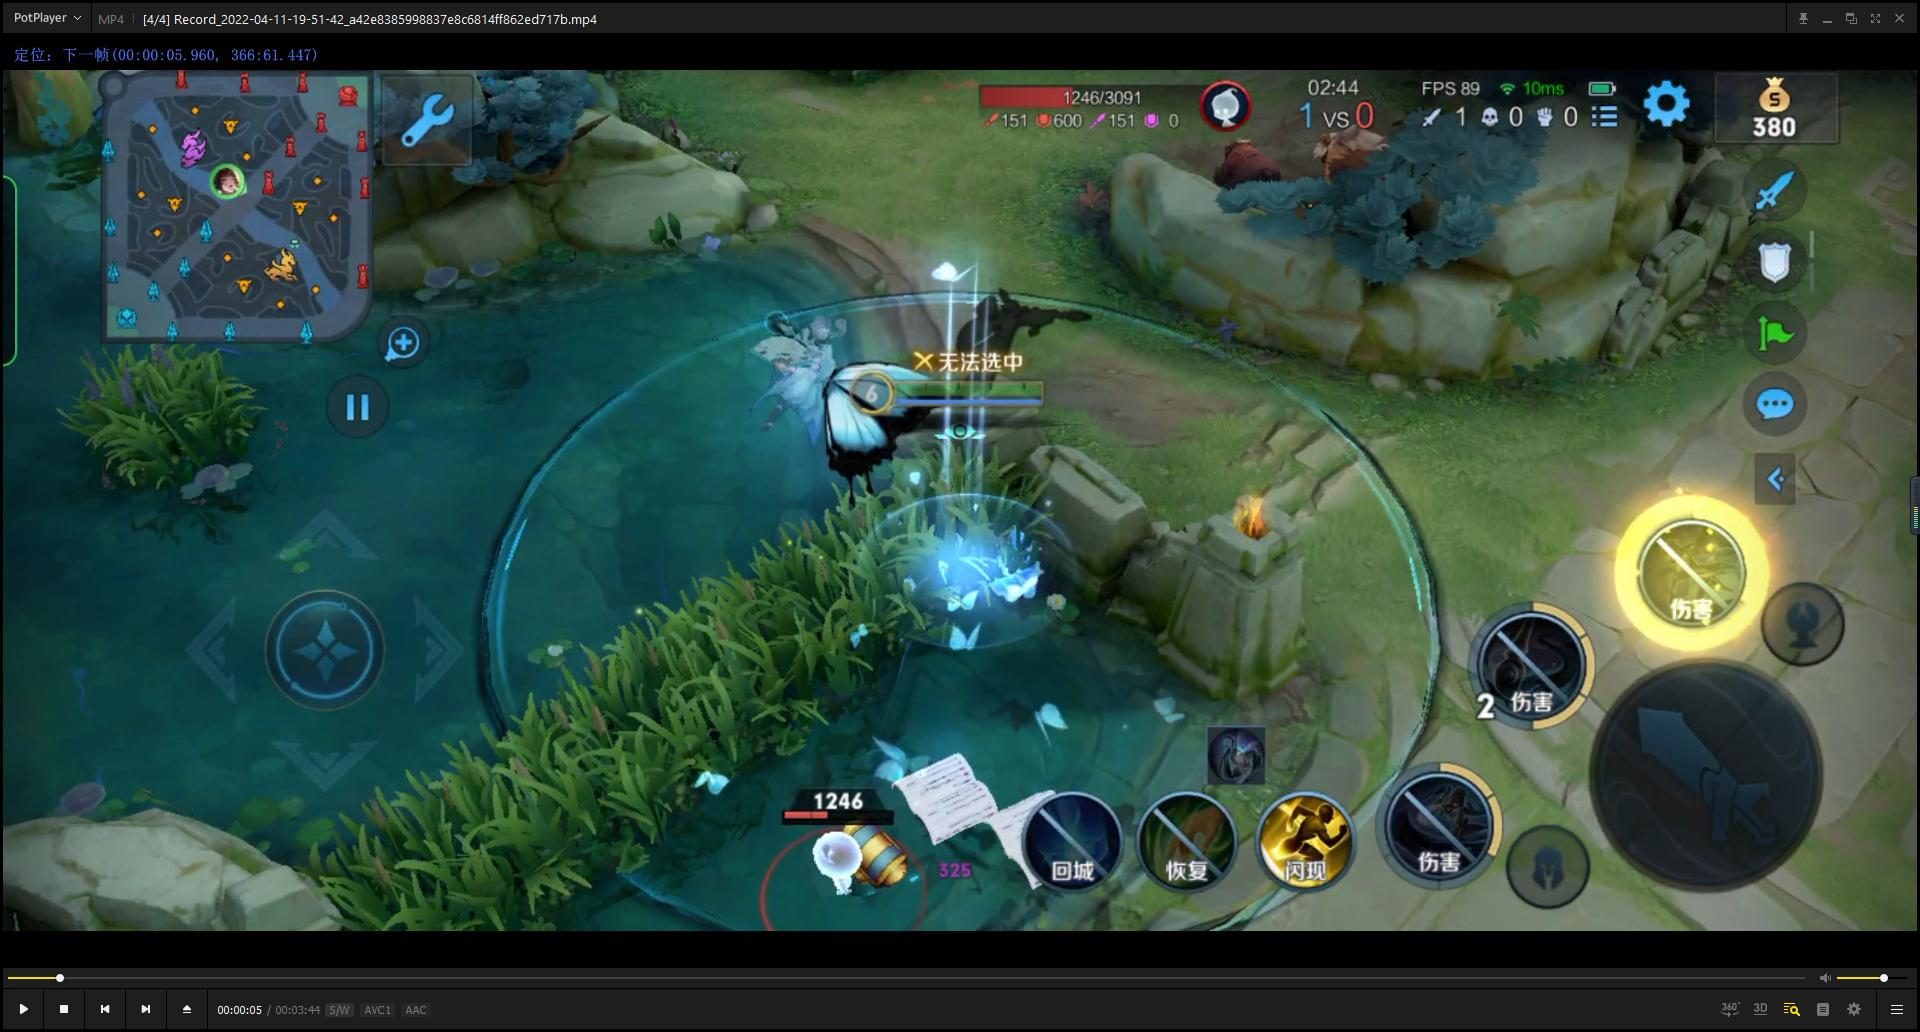Hero: (738, 287, 1122, 703)
Pig: (1294, 103, 1395, 191), (1205, 123, 1297, 211)
Spirit: (762, 778, 923, 905)
